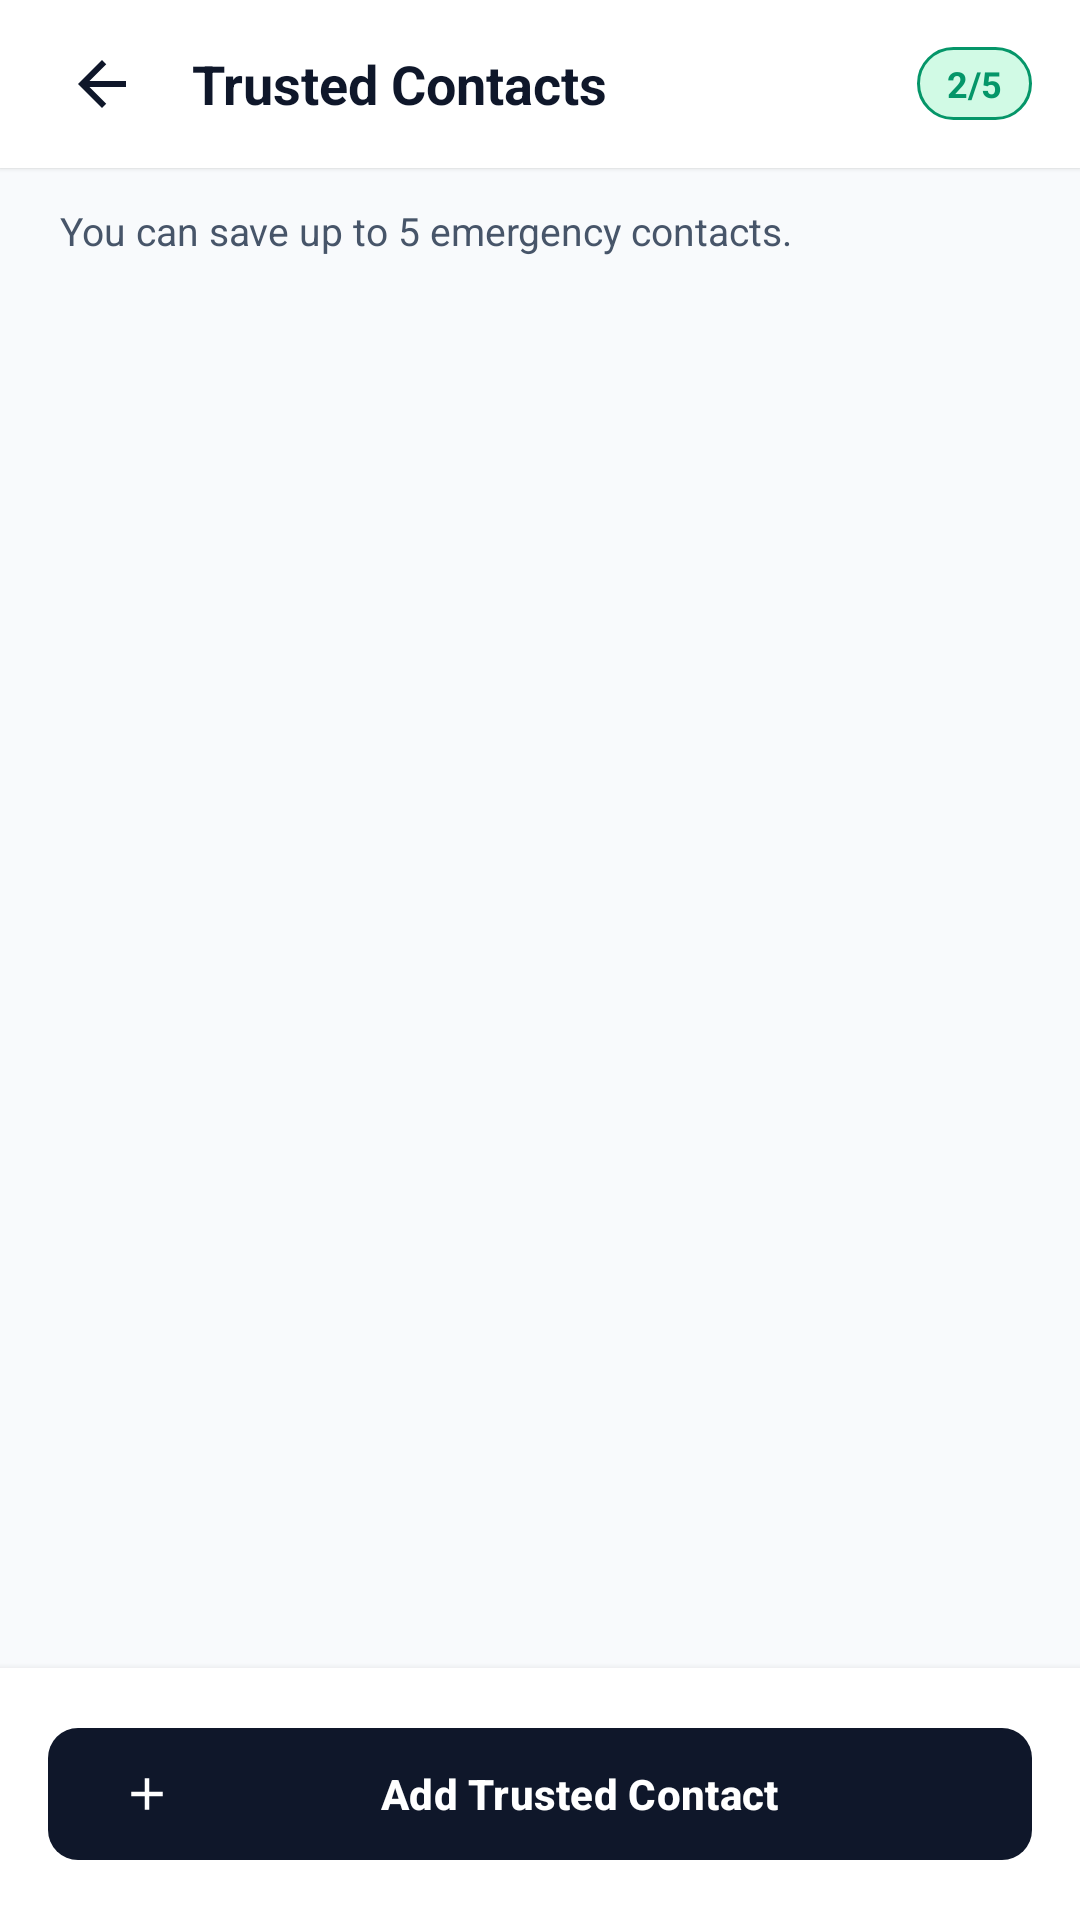

Icons on this 1080w x 1920h Android screen, each with its box as (x1, y1, x2, y2):
Back: (78, 60, 126, 108)
